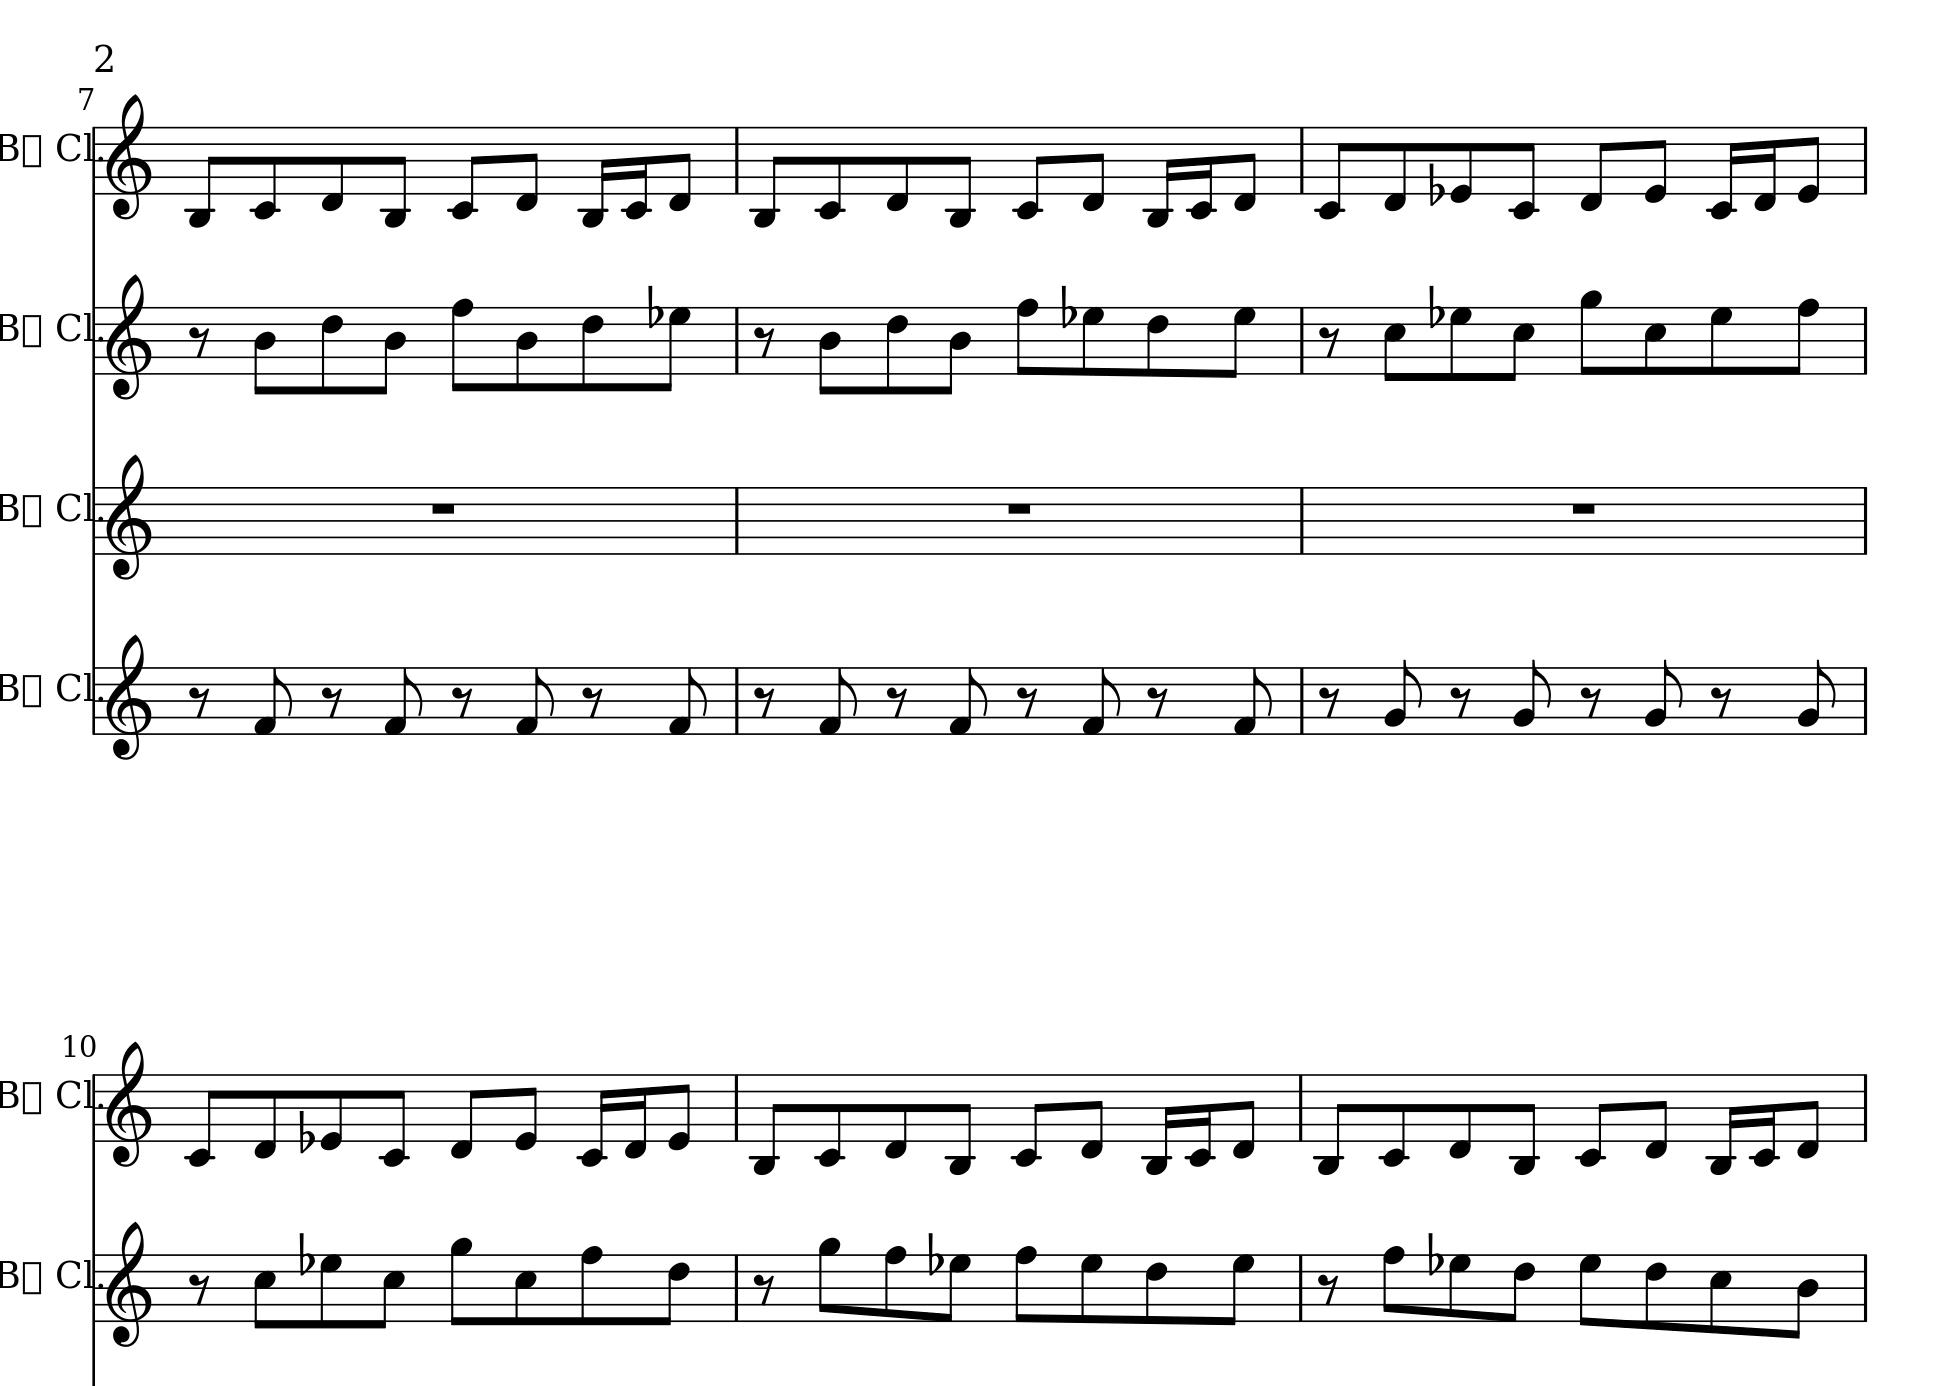0: (79, 1030, 97, 1060)
1: (61, 1030, 76, 1060)
16_-1: (1753, 124, 1779, 213), (622, 1072, 648, 1161)
16_-2: (1707, 124, 1740, 222), (577, 1072, 610, 1168), (1750, 1071, 1779, 1170), (1186, 124, 1215, 222), (1185, 1072, 1213, 1168), (622, 124, 649, 222)
16_-3: (1140, 1072, 1176, 1177), (577, 124, 612, 229), (1143, 124, 1177, 229), (1705, 1072, 1740, 1177)
2: (91, 40, 115, 72)
7: (76, 84, 96, 112)
8_-1: (447, 1072, 481, 1161), (1578, 124, 1611, 213), (880, 1072, 910, 1161), (318, 124, 346, 214), (883, 124, 912, 214), (1446, 1072, 1474, 1161), (514, 124, 541, 214), (1080, 124, 1107, 214), (1383, 124, 1410, 214), (1644, 1072, 1671, 1162), (1233, 126, 1260, 214), (1080, 1072, 1107, 1161), (1231, 1072, 1257, 1162), (667, 126, 693, 214), (252, 1072, 277, 1161), (1797, 1072, 1821, 1162)
8_-2: (1009, 1071, 1047, 1168), (447, 124, 484, 220), (1012, 124, 1050, 220), (1314, 124, 1350, 220), (184, 1071, 220, 1167), (1575, 1072, 1611, 1168), (249, 124, 282, 223), (1509, 124, 1540, 220), (813, 1072, 844, 1168), (1378, 1072, 1410, 1168), (814, 124, 844, 222), (379, 1071, 409, 1167)
8_-3: (186, 124, 223, 229), (748, 126, 783, 229), (748, 1072, 781, 1177), (943, 1072, 976, 1176), (1314, 1072, 1347, 1176), (379, 124, 411, 229), (943, 124, 975, 229), (1509, 1072, 1540, 1176)
8_0: (1449, 124, 1476, 205), (513, 1072, 540, 1153), (1644, 124, 1669, 205), (667, 1072, 693, 1153), (1797, 124, 1822, 204), (319, 1072, 343, 1152)
8_1: (252, 664, 295, 736), (513, 664, 556, 736), (946, 664, 990, 736), (1080, 664, 1123, 736), (382, 664, 424, 736), (667, 664, 709, 736), (1233, 664, 1275, 736), (817, 666, 859, 736)
8_2: (1644, 658, 1683, 735), (1797, 658, 1836, 735), (1383, 658, 1422, 733), (1513, 658, 1551, 735)
8_3: (1707, 1251, 1734, 1336)
8_4: (937, 303, 973, 394), (1785, 1252, 1818, 1341), (375, 304, 406, 396), (319, 303, 345, 397), (253, 304, 279, 397), (817, 304, 843, 396), (514, 304, 540, 393)
8_5: (372, 1252, 406, 1329), (1503, 304, 1536, 382), (511, 1252, 538, 1327), (252, 1252, 277, 1330), (1383, 304, 1407, 382), (1642, 304, 1668, 376)
8_6: (658, 1252, 691, 1327), (885, 304, 910, 396), (580, 304, 604, 394), (1506, 1252, 1536, 1323), (1644, 1252, 1668, 1333), (1144, 1251, 1168, 1326), (1146, 304, 1170, 378)
8_7: (655, 304, 691, 394), (1224, 304, 1257, 379), (1222, 1252, 1255, 1326), (939, 1252, 970, 1323), (316, 1252, 343, 1330), (1447, 304, 1473, 382), (1081, 304, 1107, 376), (1708, 304, 1734, 376), (1578, 1252, 1602, 1327), (1447, 1252, 1473, 1321), (1080, 1252, 1104, 1324)
8_8: (1785, 297, 1818, 376), (450, 295, 475, 394), (1380, 1243, 1407, 1324), (577, 1243, 603, 1327), (882, 1243, 907, 1324), (1017, 295, 1041, 376), (1014, 1243, 1038, 1324)
8_9: (816, 1234, 841, 1324), (448, 1234, 472, 1327), (1579, 288, 1602, 376)
Cl: (55, 307, 91, 345), (55, 487, 91, 525), (55, 129, 91, 165), (55, 669, 91, 703), (55, 1257, 91, 1288), (55, 1077, 90, 1108)
Flat: (297, 1107, 315, 1155), (925, 1230, 943, 1276), (1425, 1230, 1443, 1276), (1059, 283, 1077, 328), (1428, 160, 1444, 208), (646, 283, 663, 328), (1428, 283, 1444, 328), (297, 1231, 313, 1276)
Gclef: (103, 453, 154, 585), (106, 273, 156, 406), (103, 91, 154, 220), (105, 631, 154, 763), (103, 1039, 153, 1167), (105, 1219, 153, 1348)
Rests1: (427, 499, 459, 517), (1005, 498, 1035, 516), (1569, 499, 1599, 516)
Rests4: (187, 322, 211, 355)
Rests8: (186, 684, 211, 718), (751, 682, 775, 718), (751, 1270, 775, 1306), (1317, 1270, 1341, 1306), (1317, 324, 1341, 358), (319, 684, 343, 718), (450, 684, 474, 718), (580, 684, 604, 718), (885, 684, 909, 718), (1146, 684, 1170, 718), (1317, 684, 1341, 718), (1449, 684, 1473, 718), (187, 1270, 211, 1305), (1710, 684, 1734, 717), (753, 324, 775, 358), (1017, 684, 1039, 718), (1581, 684, 1603, 718)
Single_barline: (1291, 666, 1311, 733), (87, 487, 103, 553), (1857, 487, 1873, 553), (1857, 667, 1873, 733), (87, 126, 102, 195), (88, 1252, 103, 1321), (88, 306, 103, 373), (87, 1074, 102, 1141), (1858, 1254, 1873, 1321), (1858, 307, 1873, 373), (88, 667, 103, 733), (1860, 1072, 1873, 1144), (729, 1254, 744, 1315), (1293, 1255, 1308, 1317), (1860, 127, 1873, 195), (730, 1074, 742, 1138)
Slur: (727, 484, 747, 555), (729, 666, 748, 735), (727, 124, 745, 193), (729, 304, 745, 373), (1294, 484, 1311, 553), (1294, 304, 1311, 373), (1296, 124, 1311, 193), (1294, 1072, 1308, 1138)
